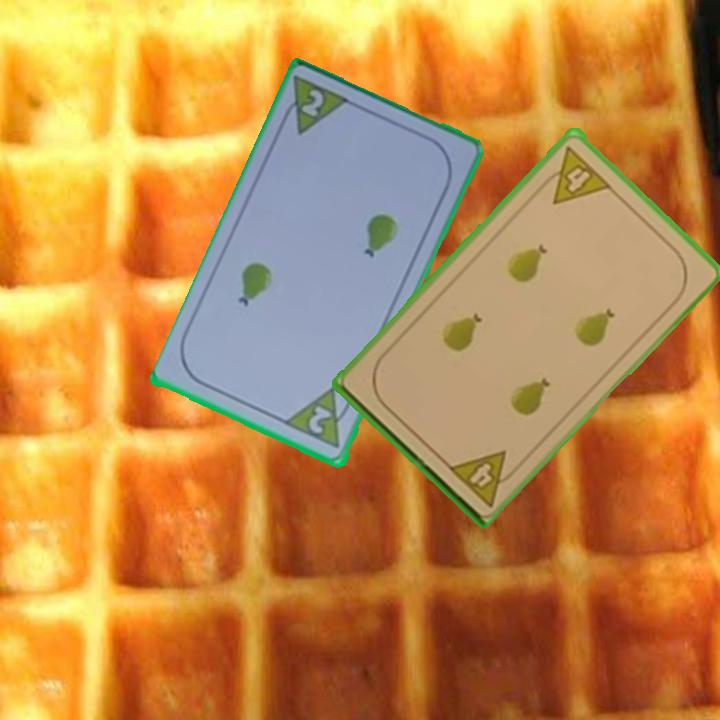2p: (304, 402, 335, 438), (298, 86, 327, 121)
4p: (535, 142, 615, 207), (444, 446, 523, 510)
